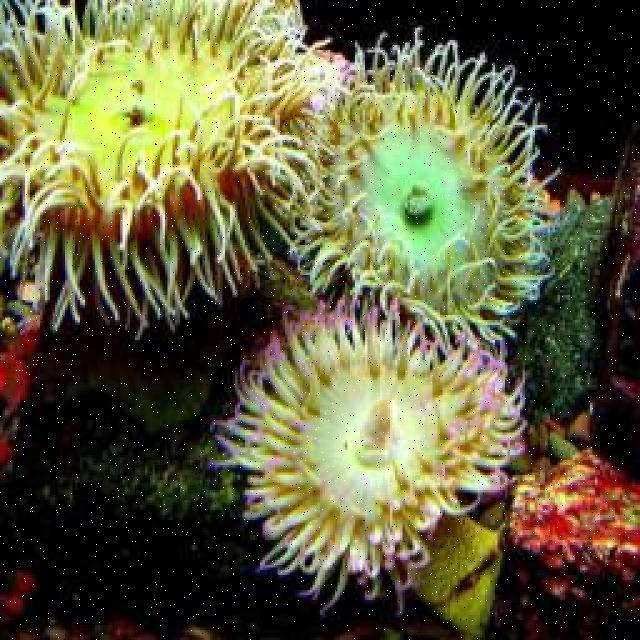reefs: (1, 0, 312, 341), (206, 296, 529, 619), (268, 26, 564, 363)
